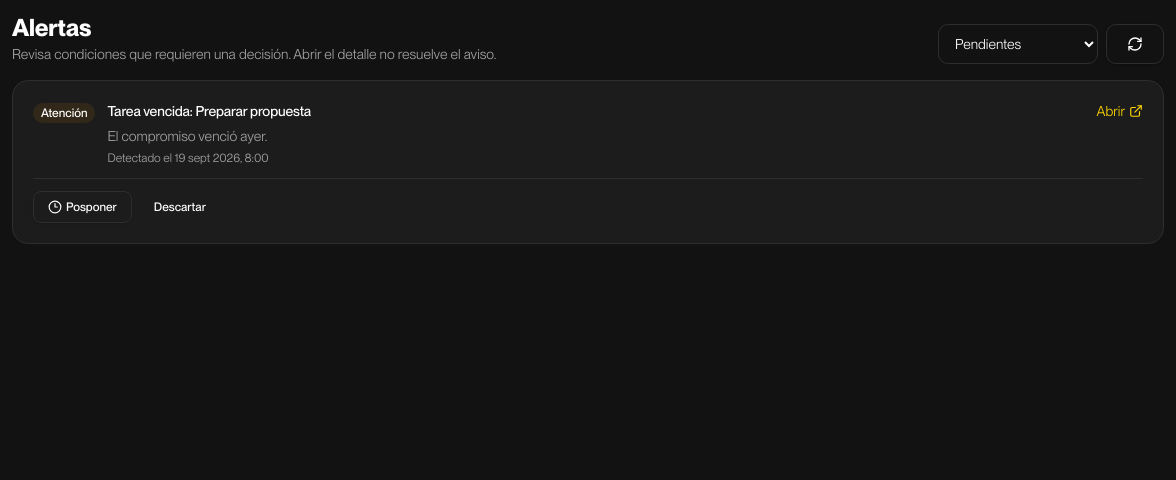
Test case: keeps decisions blocked when the required refresh also fails
Expected: the heading "Tarea vencida: Preparar propuesta" is shown, [108,103,311,119]
Click the button "Descartar". click: point(180, 207)
box: [140,191,220,223]
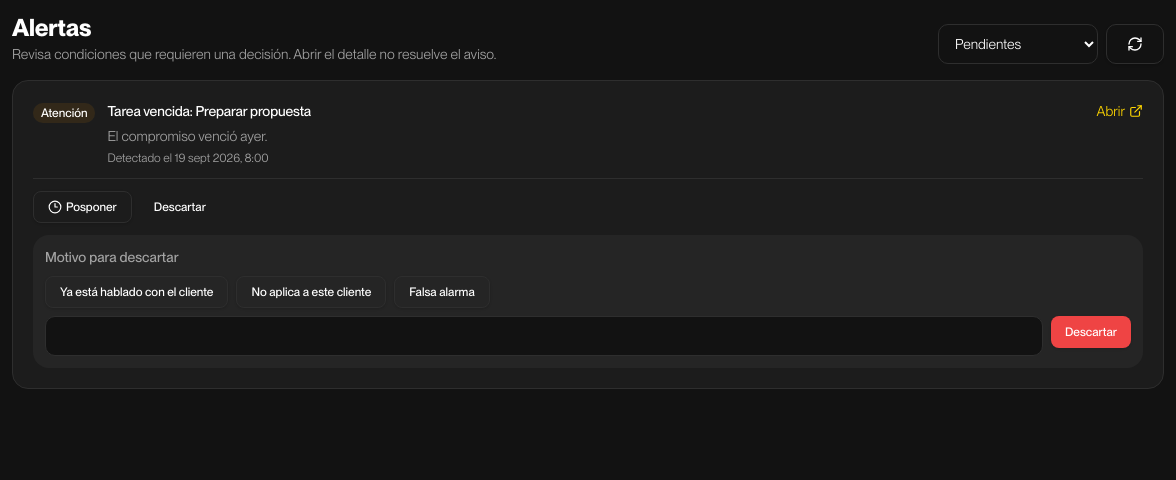
Type "Servicio caído" into the field labelled "Motivo para descartar". click: point(544, 336)
box: [45,316,1043,356]
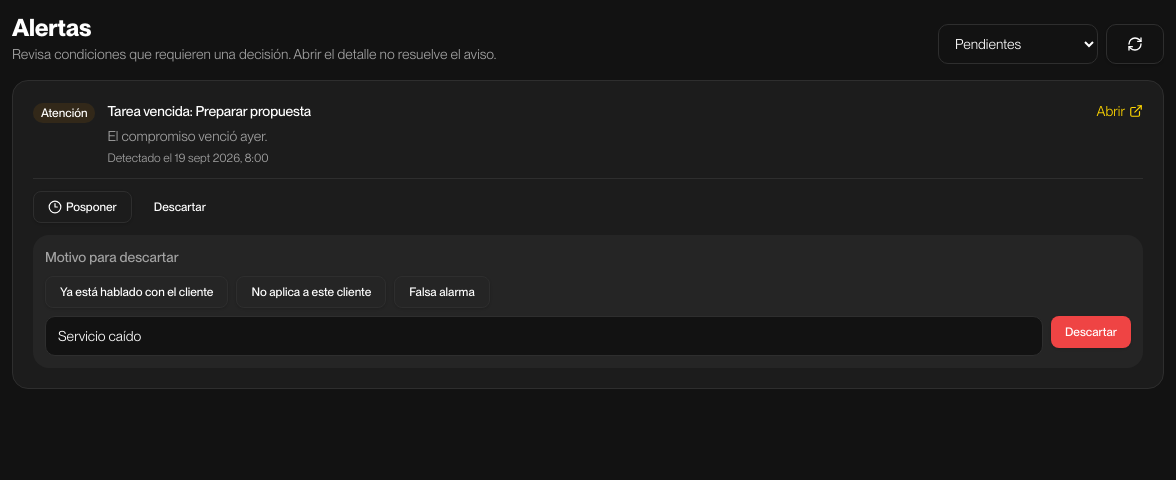
Click the button with aria-label "Confirmar descarte". click: point(1091, 332)
box: [1051,316,1131,348]
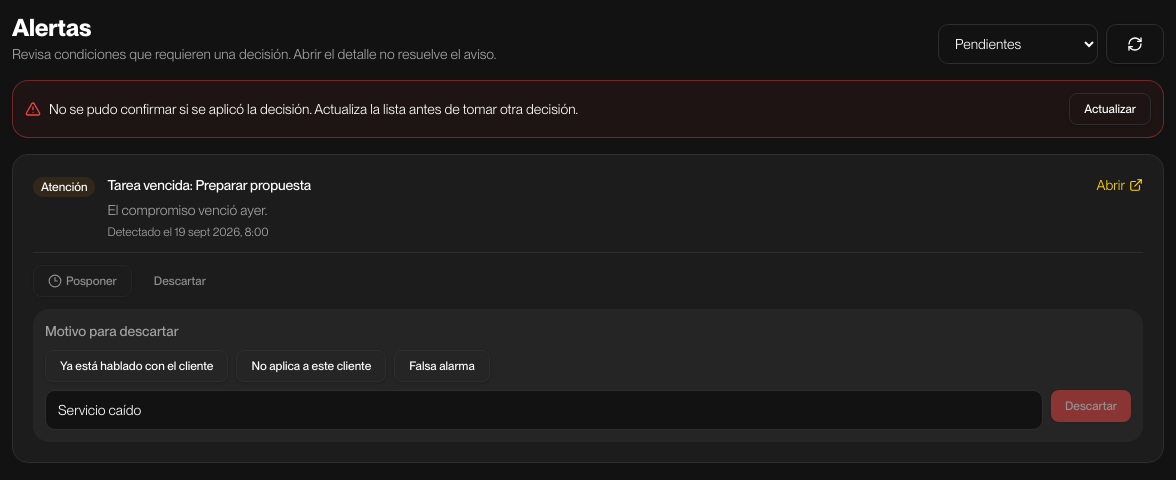
Expected: the message shows "No se pudo confirmar", [49,101,578,117]
Click the button "Actualizar". click: point(1110, 109)
box: [1069,93,1151,125]
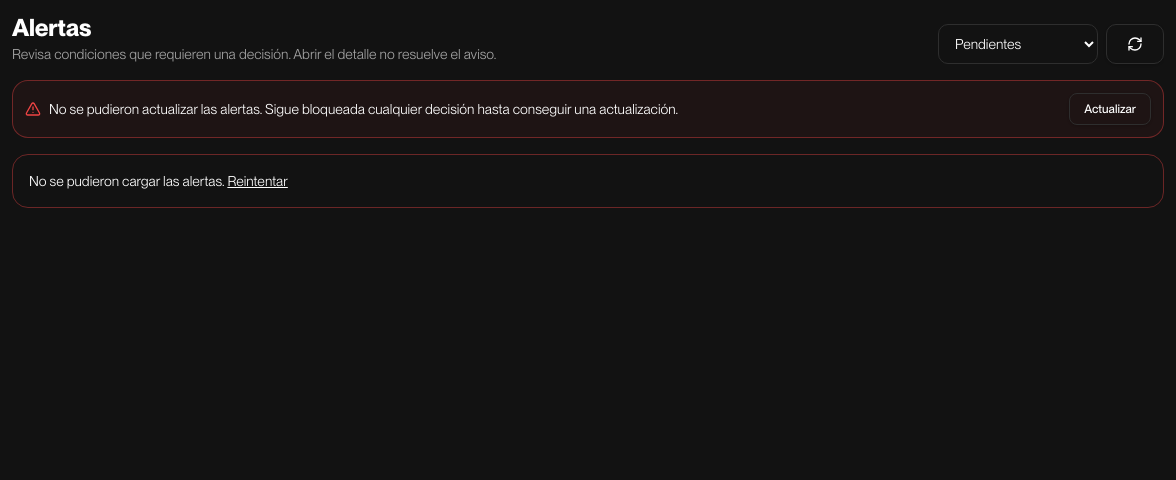
Expected: the text "Sigue bloqueada" is shown, [49,101,678,117]
